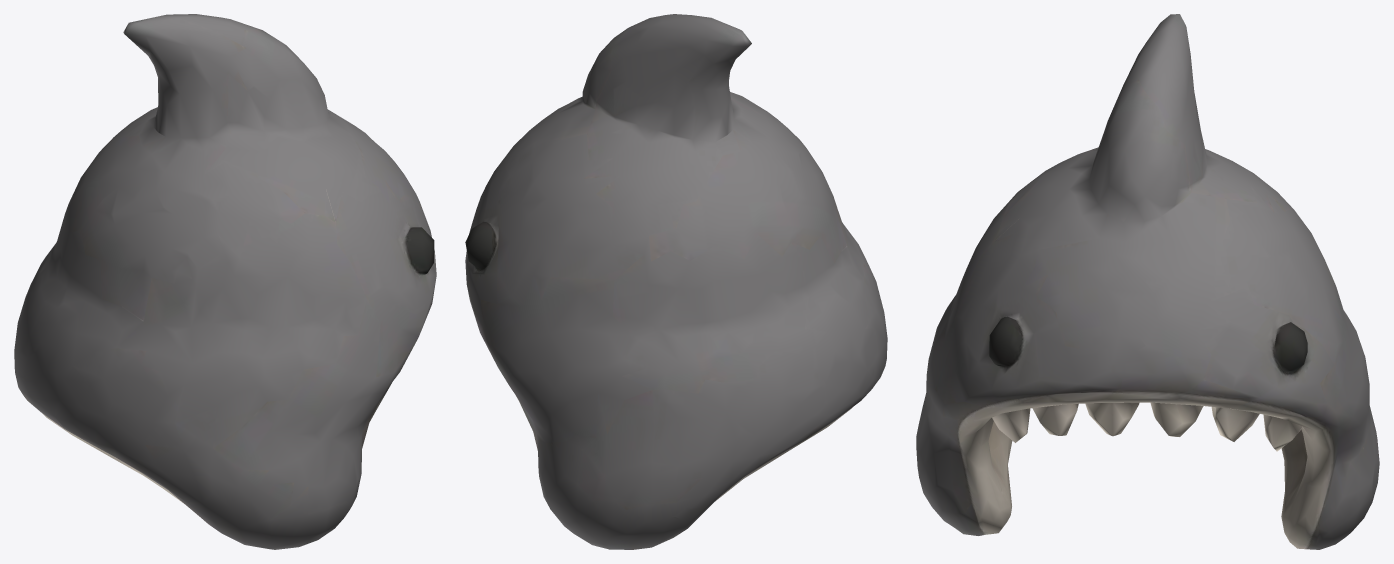
Rendered from hat-shark.glb.
3 views of the same model, side by side, from view 1: azimuth 30°, elevation 25°; view 2: azimuth 150°, elevation 25°; view 3: azimuth 270°, elevation 25° (orthographic). The views are drawn at different scales.
Parts seen in each view (by area): view 1: tripo_node_078a9197-c7b6-4717-8a81-9abcf618249b; view 2: tripo_node_078a9197-c7b6-4717-8a81-9abcf618249b; view 3: tripo_node_078a9197-c7b6-4717-8a81-9abcf618249b.
Boxes of the visible parts, x1,y1,x2,y2 form: tripo_node_078a9197-c7b6-4717-8a81-9abcf618249b: [14, 14, 436, 549]; tripo_node_078a9197-c7b6-4717-8a81-9abcf618249b: [465, 14, 887, 549]; tripo_node_078a9197-c7b6-4717-8a81-9abcf618249b: [916, 14, 1379, 549].
Size of the model in its own units: 0.7765 by 1 by 0.8415.
1 material, 1 textured.
